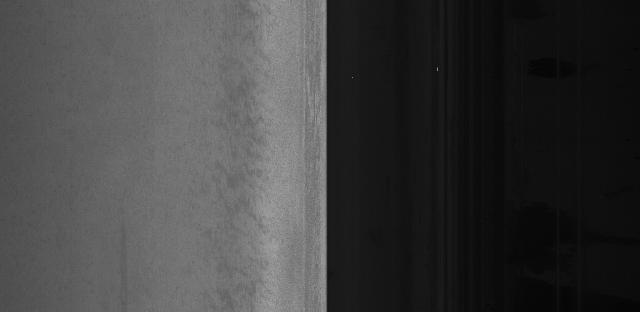silk_spot: (214, 132, 275, 236)
